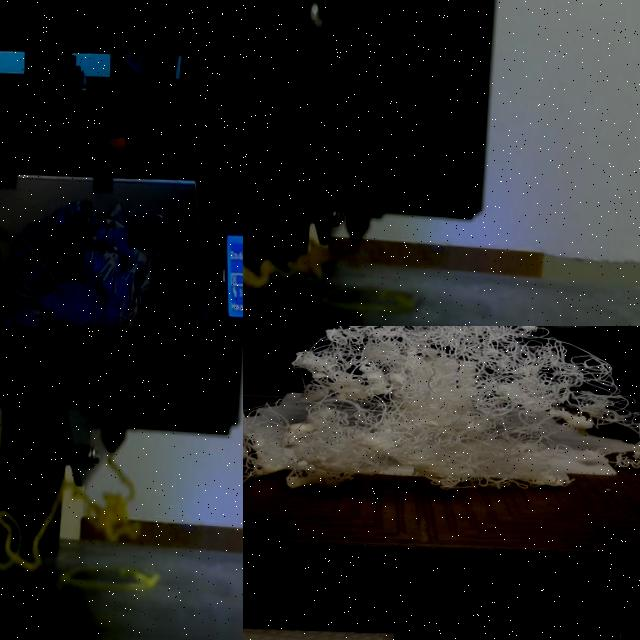spaghetti: (243, 326, 640, 489), (0, 458, 139, 571), (243, 242, 368, 290)
